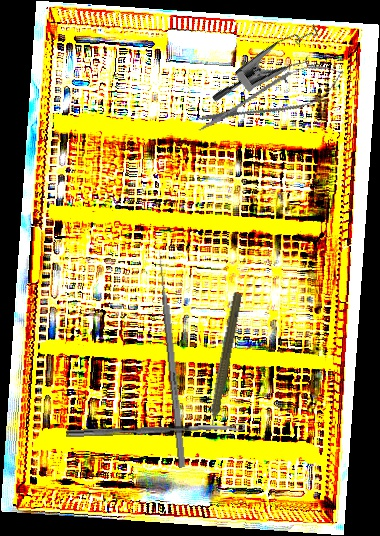Handpiece: (199, 290, 246, 441)
Micro Scissor: (190, 53, 350, 144)
Pusher: (155, 246, 187, 468)
Speculum: (210, 8, 340, 139)
Surgical Spoon: (65, 423, 246, 439)
